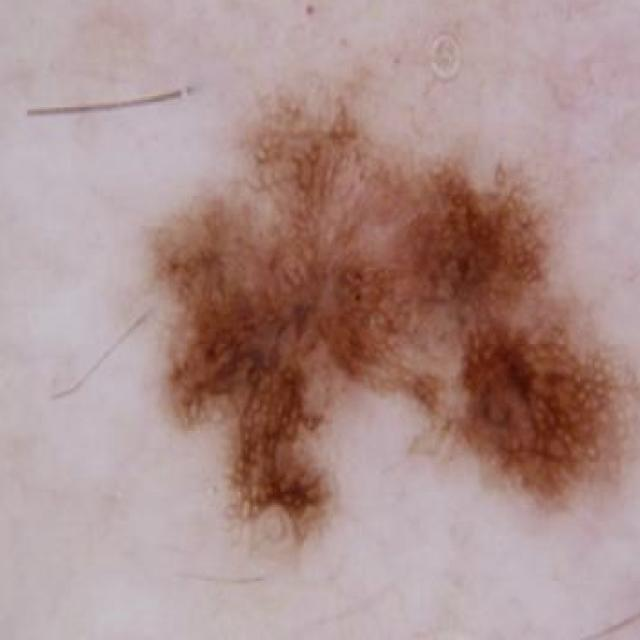NV: (131, 29, 640, 544)
